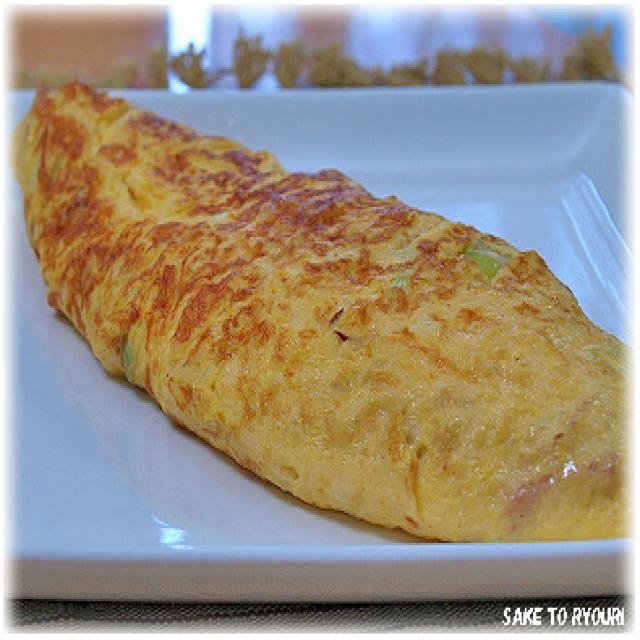鸡蛋料理: (3, 62, 640, 554)
